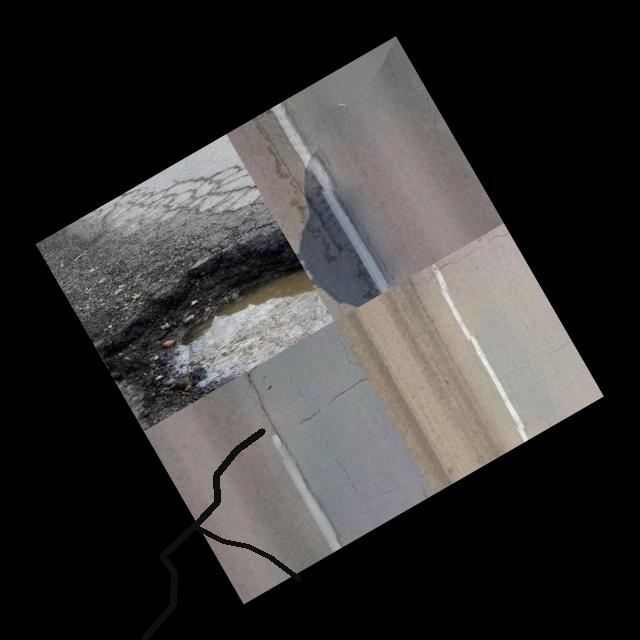road_crack: (134, 421, 272, 640)
